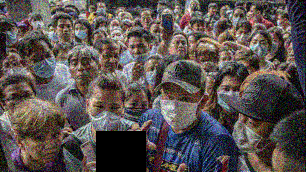mask_weared_incorrect: (128, 43, 150, 65), (193, 23, 208, 37), (248, 8, 259, 24), (17, 28, 29, 42)
with_mask: (159, 90, 201, 130), (231, 112, 269, 156), (88, 100, 123, 134), (29, 49, 58, 79), (216, 84, 242, 115), (122, 99, 149, 125), (1, 58, 27, 76), (0, 25, 19, 47), (198, 56, 218, 75), (250, 39, 269, 59), (145, 64, 159, 90), (119, 46, 133, 65), (236, 29, 252, 45), (150, 28, 164, 45), (218, 55, 235, 69), (268, 36, 280, 55), (232, 12, 246, 28), (74, 26, 88, 41), (148, 41, 162, 56), (58, 52, 71, 68), (31, 17, 45, 31), (48, 28, 59, 43), (109, 22, 123, 33), (110, 32, 123, 43), (204, 84, 214, 98), (97, 23, 109, 34), (206, 25, 215, 38), (55, 3, 65, 13), (190, 3, 200, 13), (98, 5, 107, 15), (121, 16, 131, 25), (71, 16, 79, 26), (276, 17, 283, 28), (117, 10, 125, 19), (174, 6, 181, 15), (156, 4, 161, 14), (87, 7, 92, 15)
without_mask: (28, 126, 65, 164), (70, 56, 99, 87), (4, 89, 36, 114), (100, 51, 120, 75), (168, 39, 188, 59), (56, 23, 74, 41), (288, 46, 297, 65), (141, 15, 153, 29), (187, 39, 196, 56), (210, 7, 217, 15)
